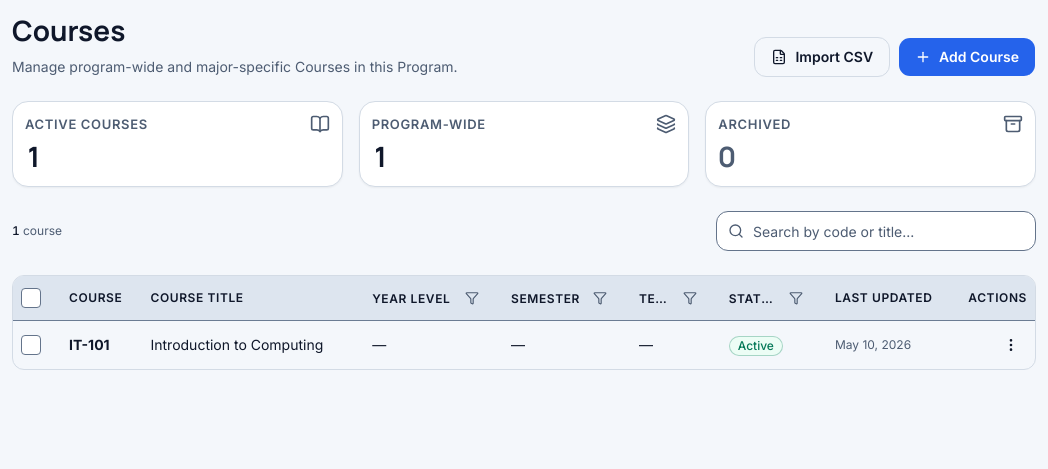
Test case: Program Head Courses catalog › selects visible Program courses and exposes archive and restore actions
This screenshot has width=1048, height=469.
Click the checkbox named "Select IT-101" at (31,345), box [21,335,41,355]
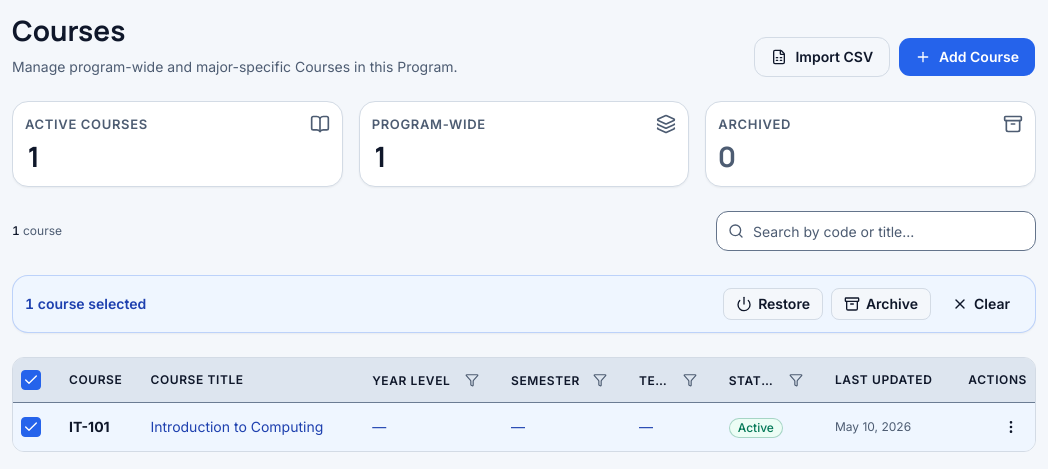
Expected: the text "1 course selected" is shown, [25,294,146,314]
Expected: the button "Restore" is shown, [723,288,823,320]
